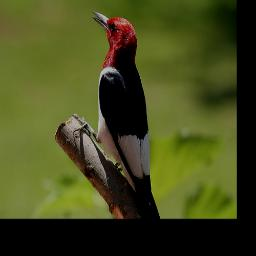Woodpecker: (86, 8, 163, 218)
